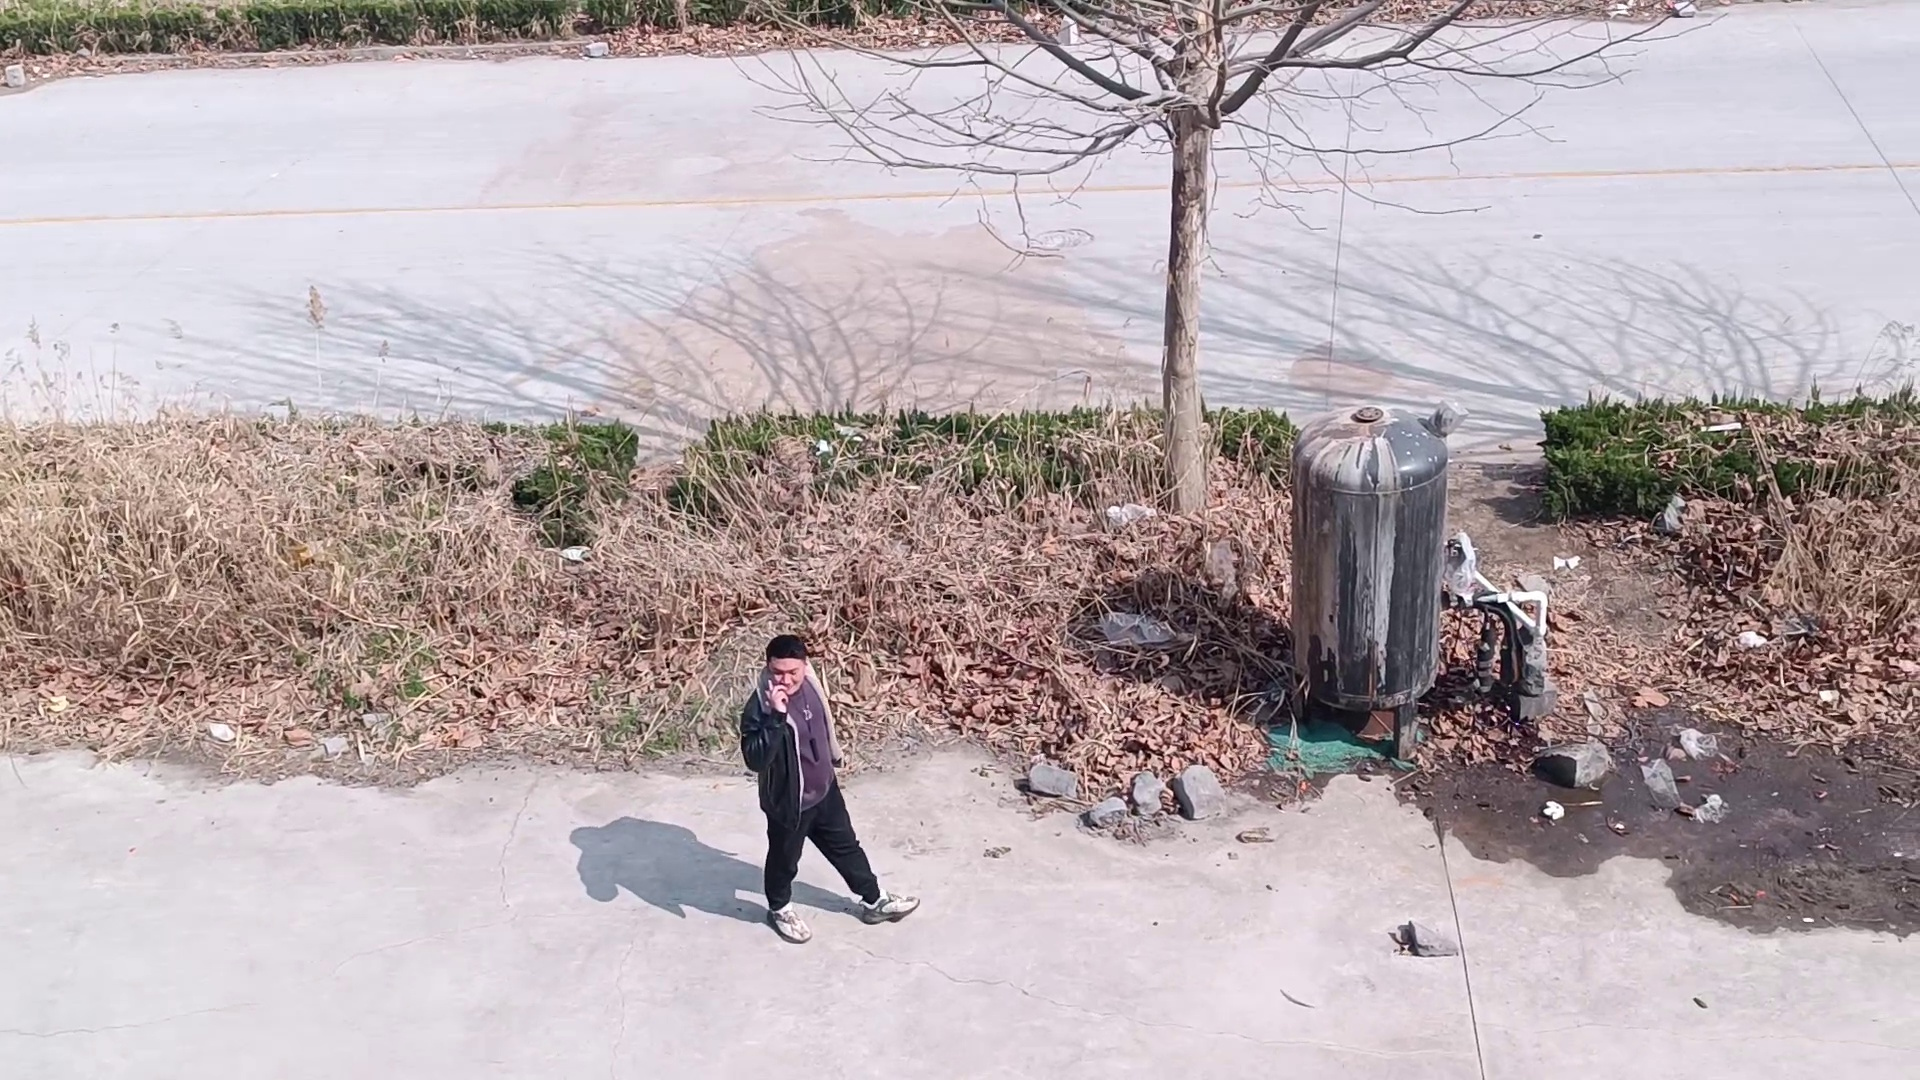phone: (742, 628, 804, 705)
